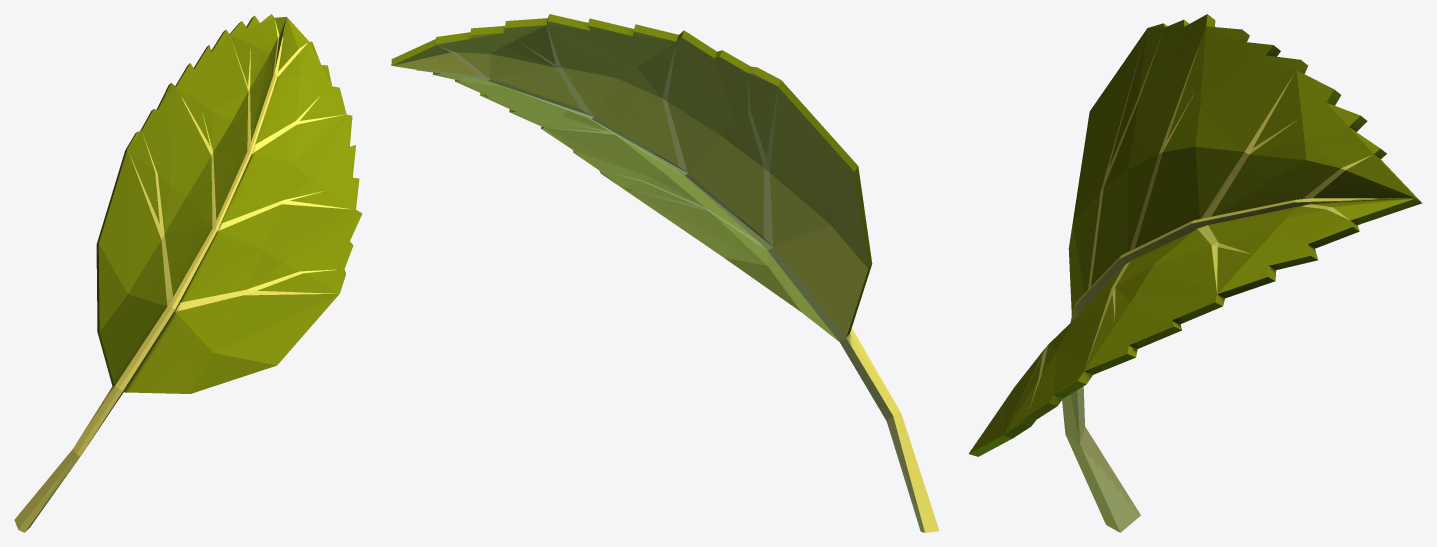
Rendered from Leaf.glb.
The picture shows the model from 3 angles, left to right: view 1: azimuth 30°, elevation 25°; view 2: azimuth 150°, elevation 25°; view 3: azimuth 270°, elevation 25°; orthographic projection. The views are drawn at different scales.
Visible parts, largest first — view 1: leaf; view 2: leaf; view 3: leaf.
Part boxes in pixels (box(x1,y1,x2,y2)): leaf: box(14, 14, 362, 532); leaf: box(391, 14, 939, 532); leaf: box(969, 14, 1421, 532).
Bounding box in the file's own units: 1.32 × 1.37 × 0.8257.
1 material, 1 textured.
